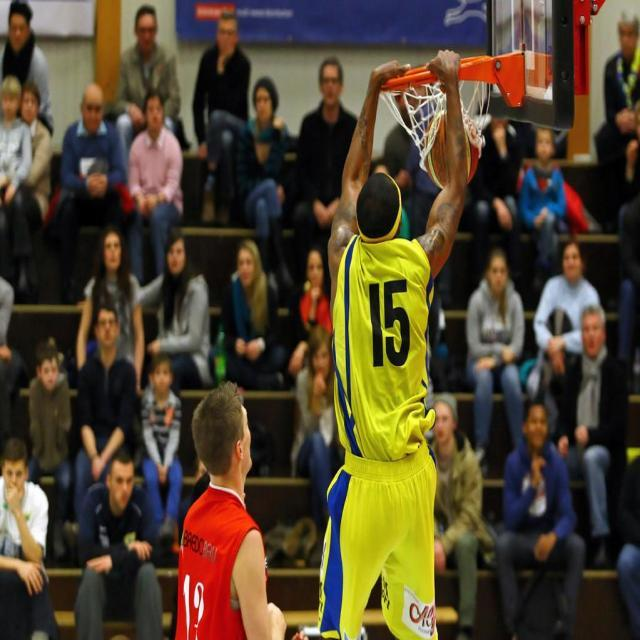rim: (426, 108, 481, 189)
